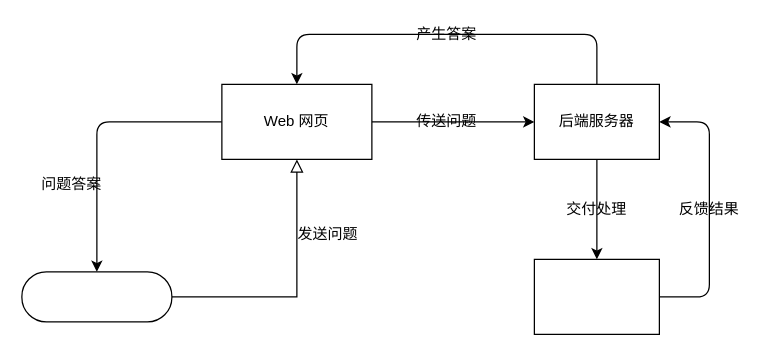
Some shapes in this 769 by 356 pixel diagram are drawn without their labels. The box of each missing label's shape, as (x1, y1, x2, y2) in pixels:
用户: (21, 271, 172, 322)
问答系统服务器: (533, 258, 659, 334)
